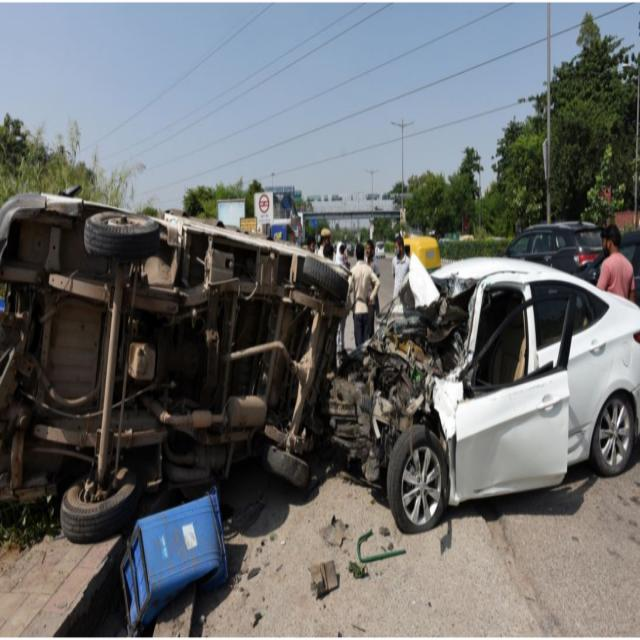accident: (0, 193, 348, 542), (328, 260, 640, 533)
car: (505, 222, 601, 273)
